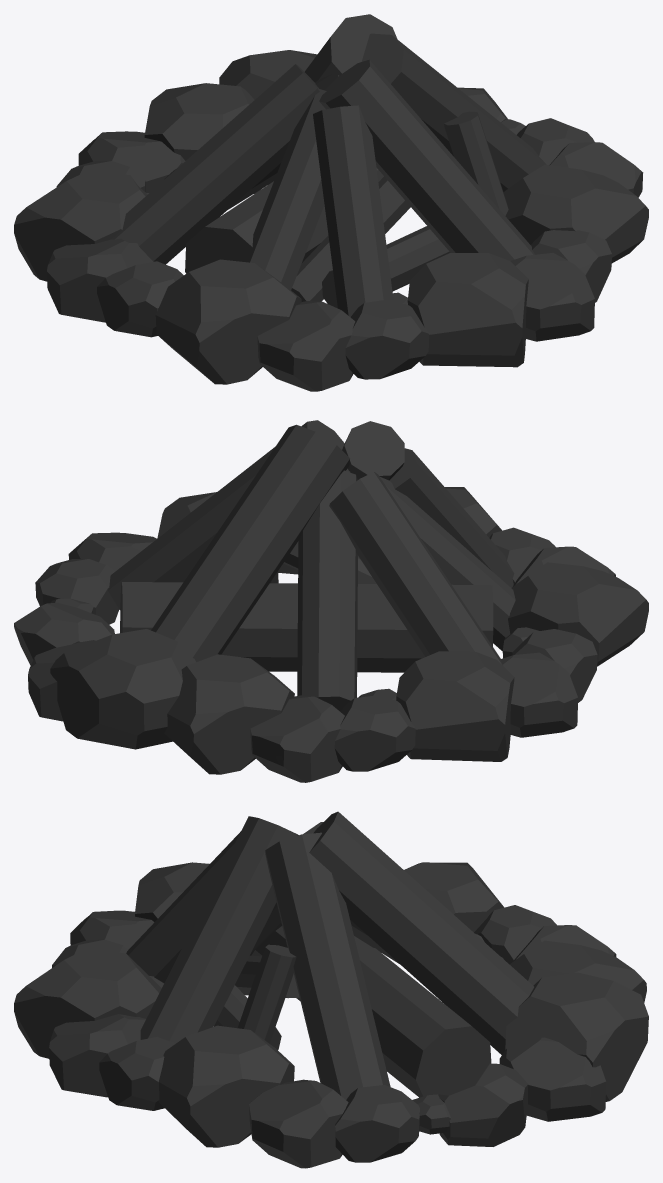
File: campfire.glb
3 renders of one model, top to bottom at view 1: azimuth 30°, elevation 25°; view 2: azimuth 150°, elevation 25°; view 3: azimuth 270°, elevation 25°, orthographic. The views are drawn at different scales.
Parts seen in each view (by area): view 1: Campfire; view 2: Campfire; view 3: Campfire.
Boxes of the visible parts, left/top/right/bottom form: Campfire: left=14, top=14, right=648, bottom=391; Campfire: left=14, top=420, right=648, bottom=782; Campfire: left=14, top=811, right=648, bottom=1168.
Size of the model in its own units: 1.7 by 0.706 by 1.74.
1 material, 1 textured.
